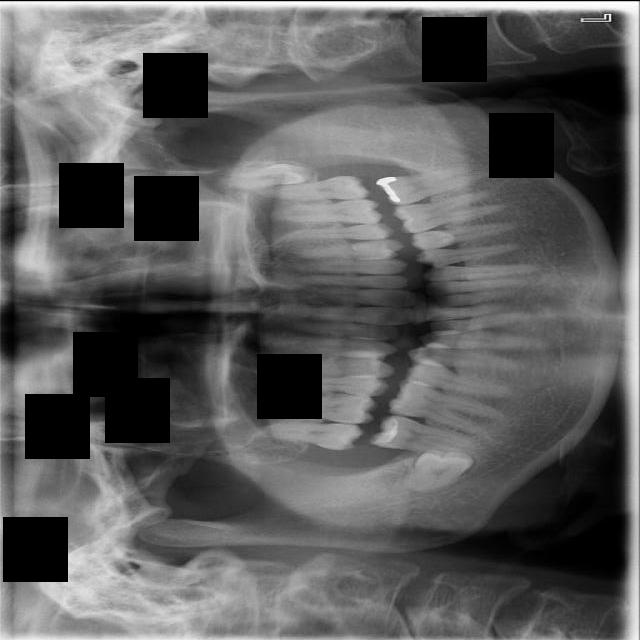52: (369, 407, 419, 453), (376, 175, 420, 205)
73: (552, 32, 556, 36)
BioHorizons Implant: (253, 174, 370, 202)
BioLife Implant: (215, 160, 313, 189)
Blue Sky Bio Implant: (374, 159, 487, 208)
Caries: (249, 420, 363, 448)
Implant: (370, 411, 478, 461)
Keystone Dental Implant: (404, 446, 474, 496)
